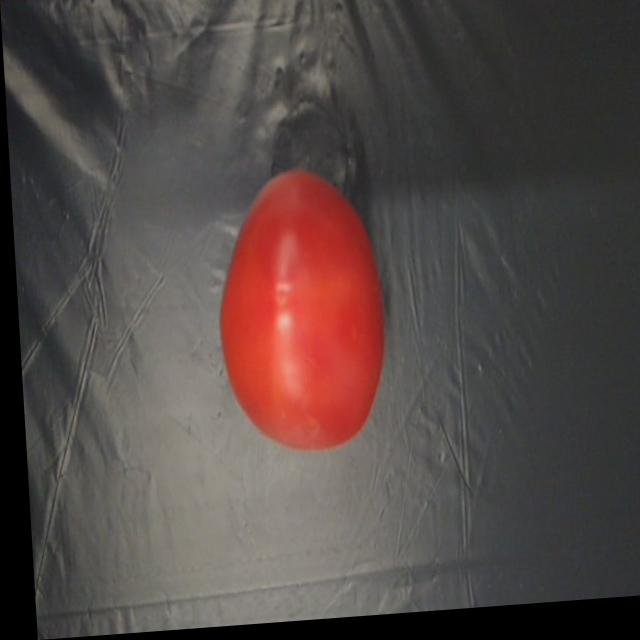kirmizi: (203, 167, 397, 465)
